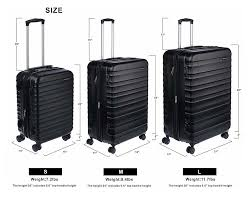suitcase: (162, 18, 232, 154), (86, 18, 149, 154), (16, 18, 76, 152)
